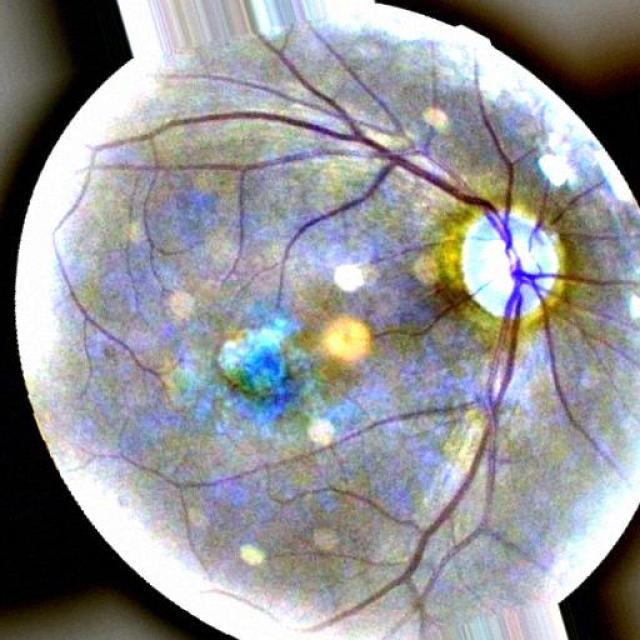Macula: (218, 324, 316, 414)
Nerves: (170, 271, 522, 622), (109, 108, 511, 302), (371, 287, 487, 342)
Optic Disk: (454, 201, 572, 321)
